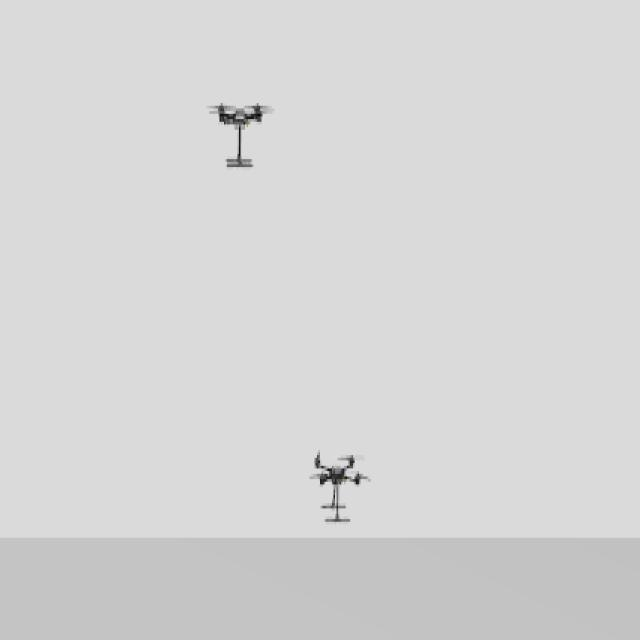drone: (310, 438, 370, 541), (208, 94, 274, 181)
